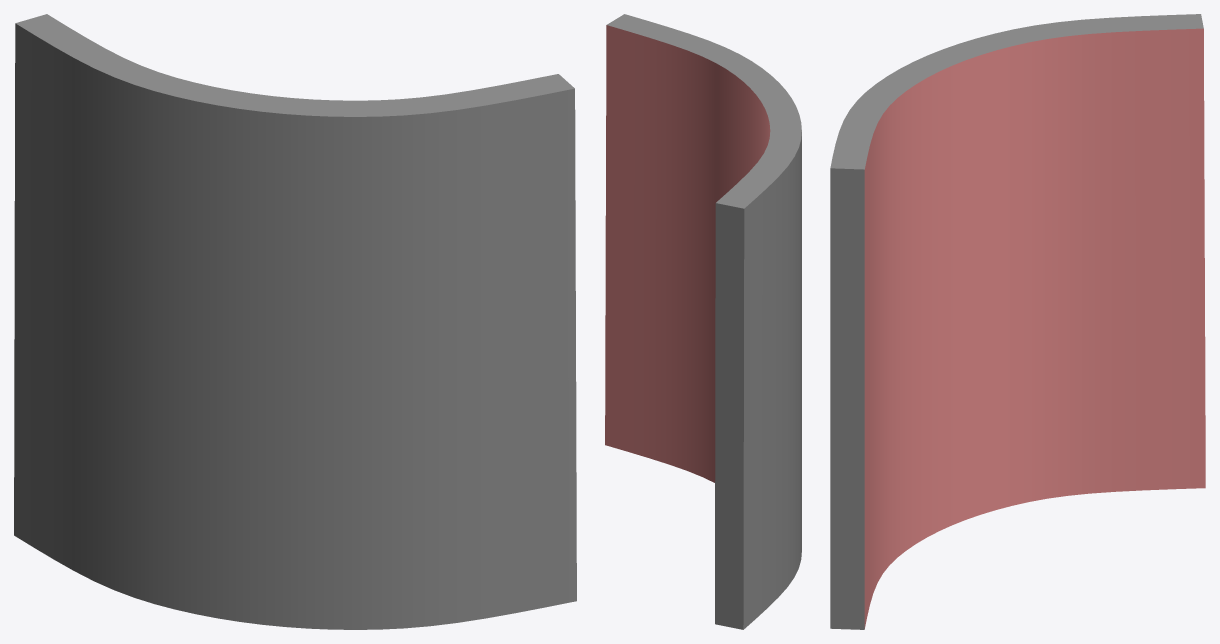
Rendered from SpaceHangarPaddedWall_01.gltf.
The picture shows the model from 3 angles, left to right: view 1: azimuth 30°, elevation 25°; view 2: azimuth 150°, elevation 25°; view 3: azimuth 270°, elevation 25°; orthographic projection. The views are drawn at different scales.
Parts seen in each view (by area): view 1: SpaceHangarPaddedWall_01; view 2: SpaceHangarPaddedWall_01; view 3: SpaceHangarPaddedWall_01.
Boxes of the visible parts, left/top/right/bottom form: SpaceHangarPaddedWall_01: left=14, top=14, right=576, bottom=629; SpaceHangarPaddedWall_01: left=605, top=14, right=801, bottom=629; SpaceHangarPaddedWall_01: left=830, top=14, right=1205, bottom=629.
Size of the model in its own units: 32.09 by 43.98 by 32.57.
